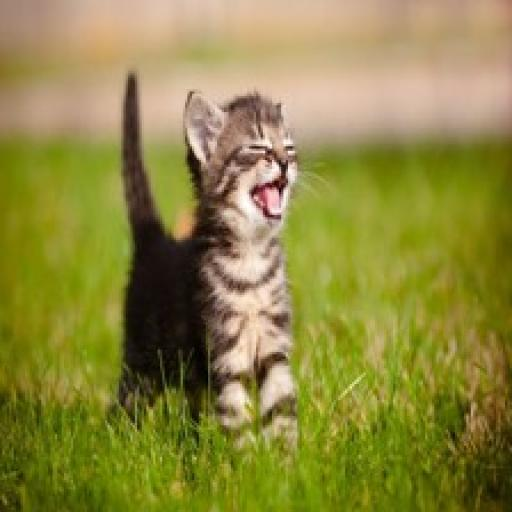cat: (90, 81, 319, 455)
